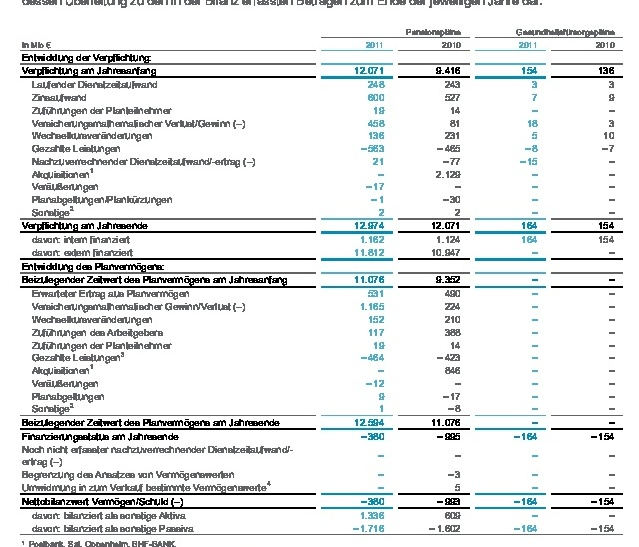table: (0, 0, 639, 547)
